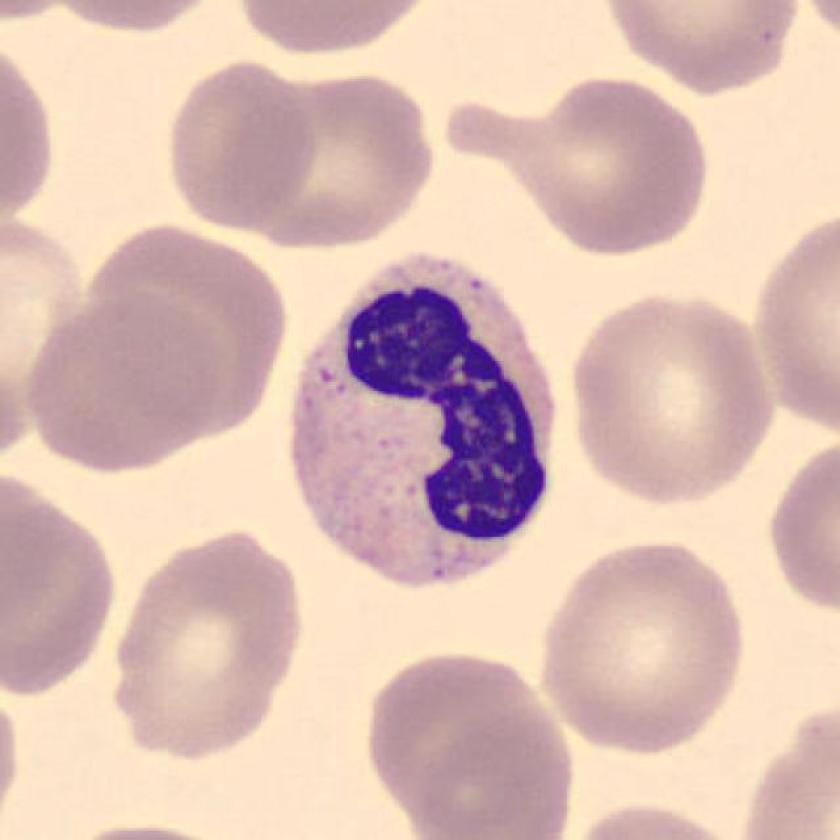neutrophil: (293, 256, 558, 589)
